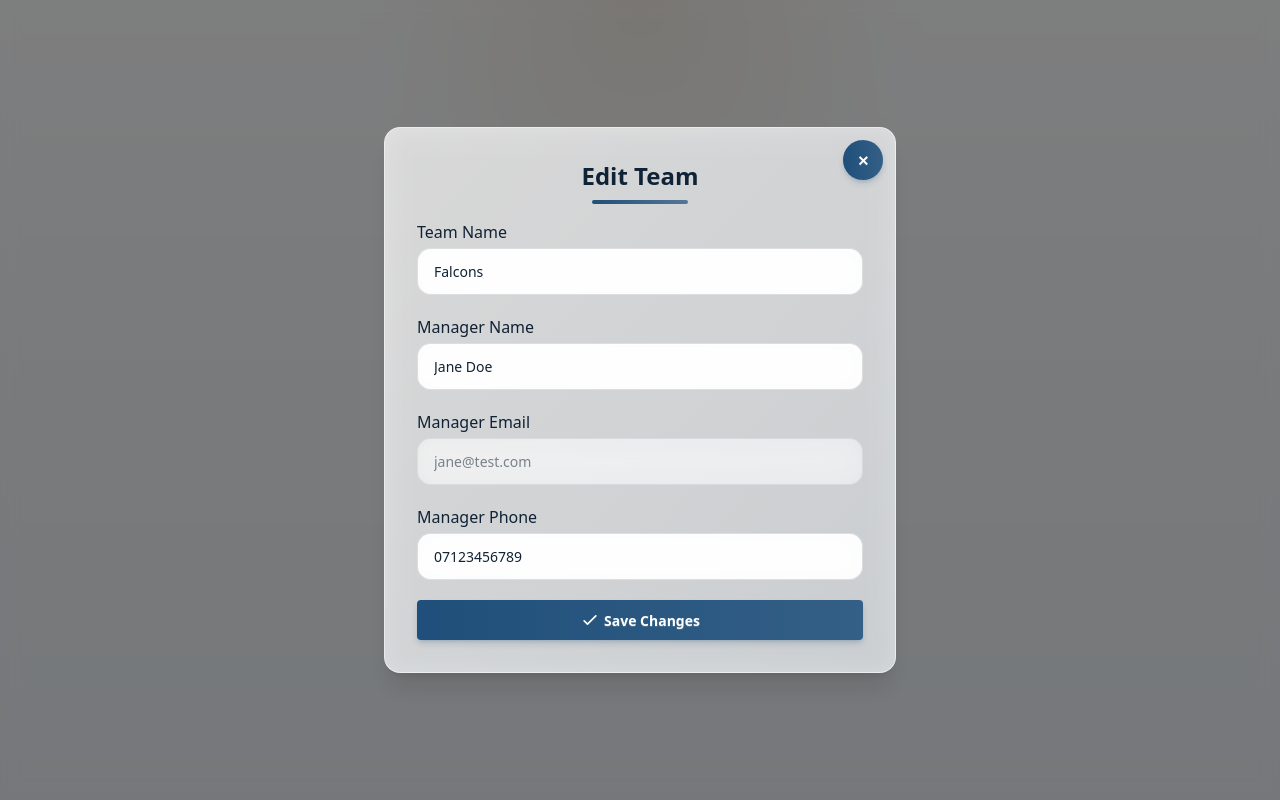
it: TeamEditForm › shows a mutation error message on failed save
The image size is (1280, 800).
Click the button "Save Changes": (640, 620) [417,600,863,640]
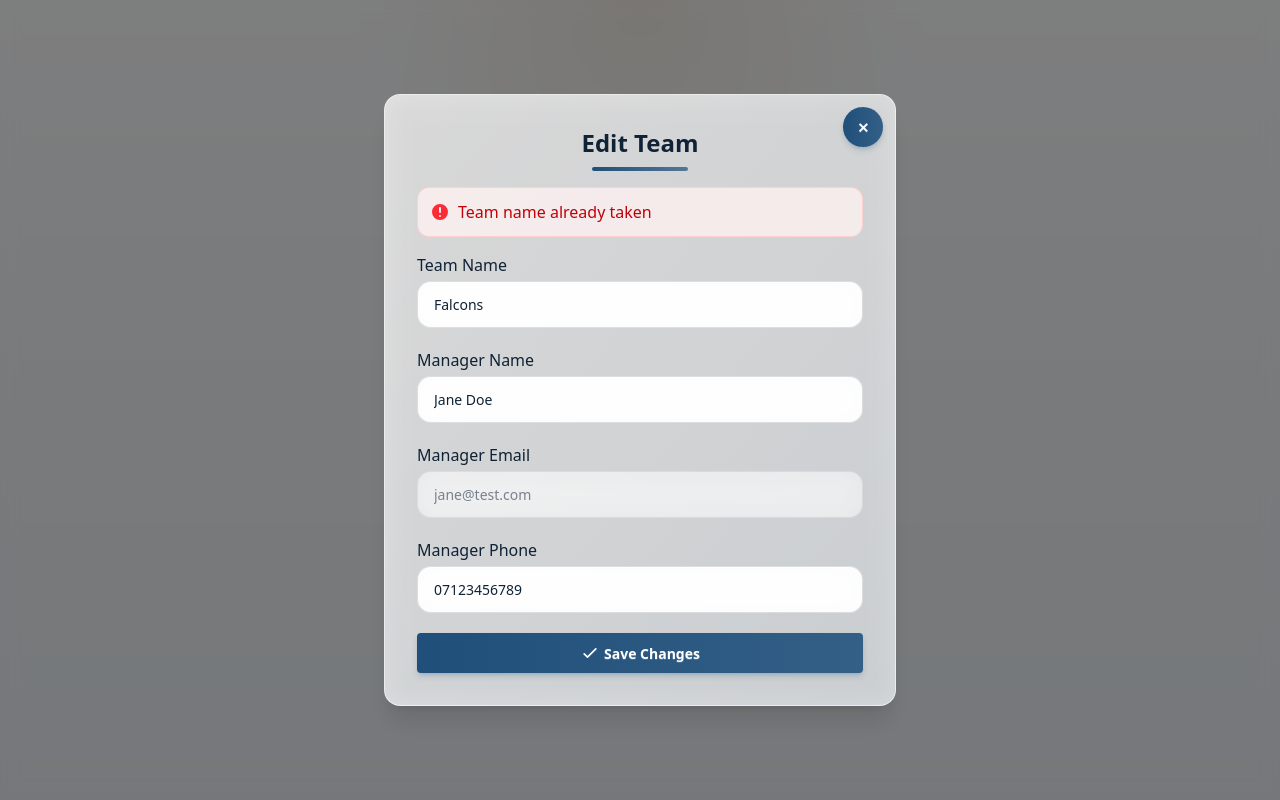
Check: the text "Team name already taken" is shown, box [417,187,863,237]
